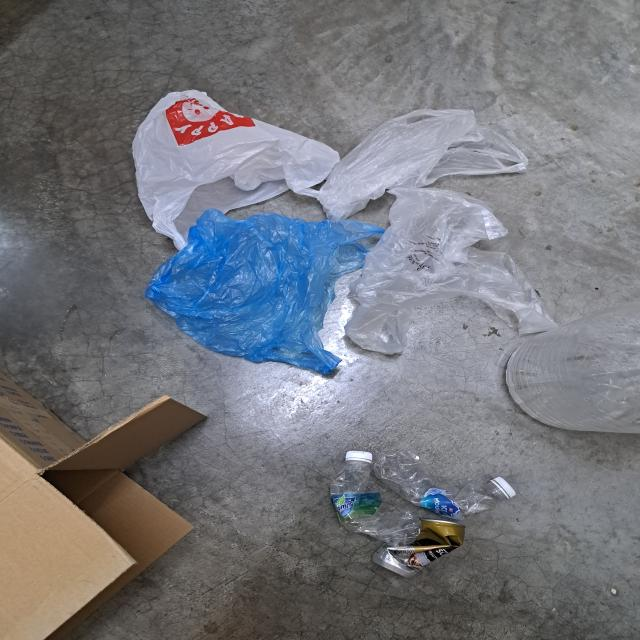can: (383, 514, 462, 578)
cardboard: (0, 353, 206, 639)
plastic bag: (152, 212, 350, 391), (352, 186, 540, 367), (128, 93, 334, 252), (316, 107, 543, 218)
plastic bottle: (504, 296, 640, 436), (388, 445, 494, 516), (334, 468, 406, 539)
plastic bottle cap: (488, 472, 516, 498), (346, 443, 375, 466)
